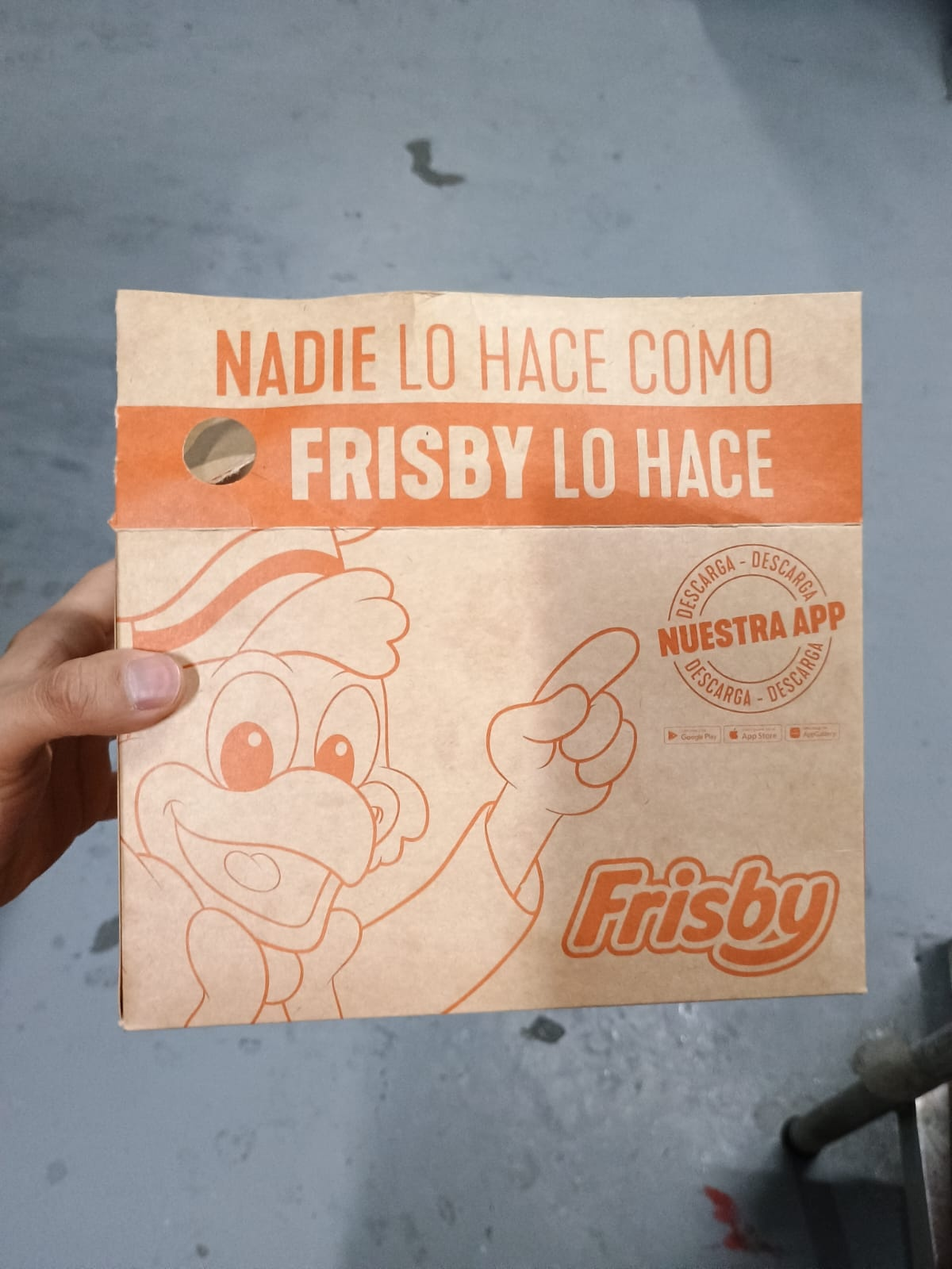Carton: (115, 292, 862, 1028)
